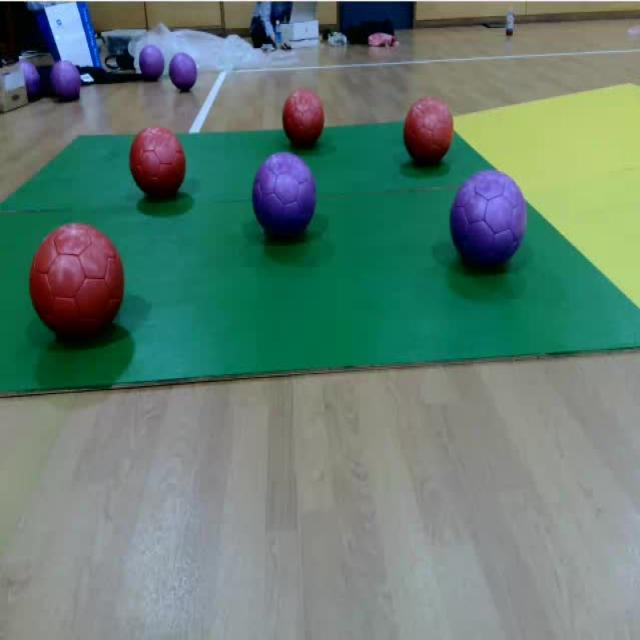purple_ball: (450, 168, 527, 278), (252, 152, 318, 248), (168, 50, 200, 93), (51, 60, 82, 103), (18, 59, 42, 103), (138, 46, 164, 82)
red_ball: (27, 220, 125, 356), (126, 126, 188, 202), (401, 90, 455, 168), (282, 88, 324, 148)
